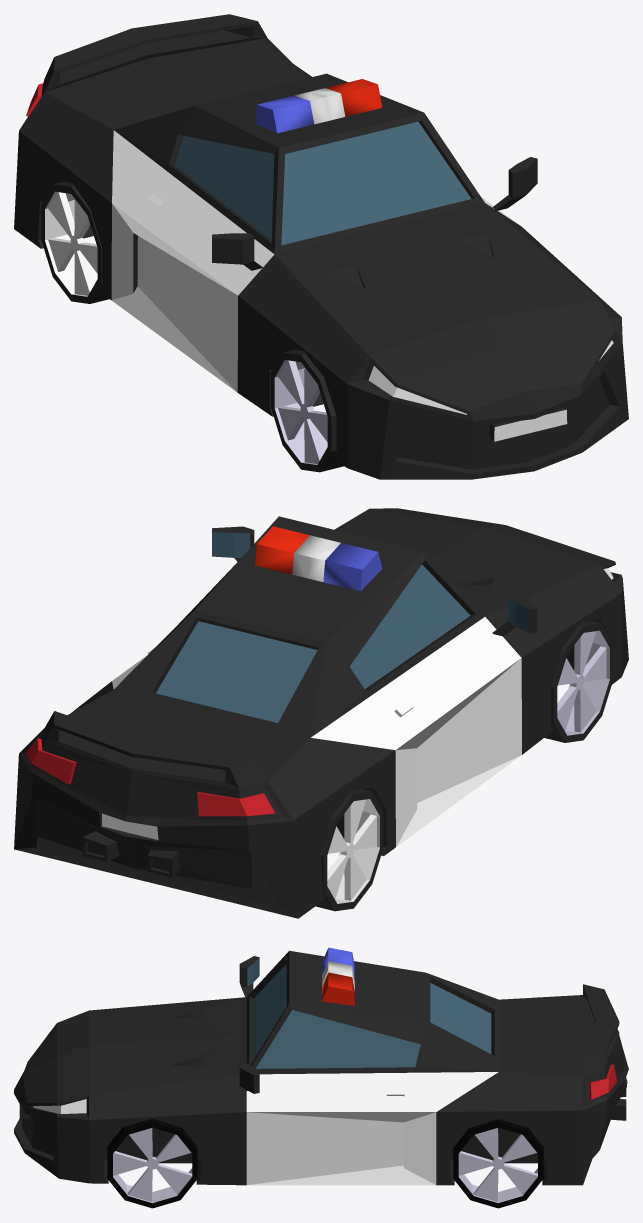
The model's file is Police_Light.fbx.
3 renders of one model, top to bottom at view 1: azimuth 30°, elevation 25°; view 2: azimuth 150°, elevation 25°; view 3: azimuth 270°, elevation 25°, orthographic. The views are drawn at different scales.
Visible parts, largest first — view 1: Police Sports, Police Sports wheel front right, Police Sports wheel rear right, Police Sports_Blue_Light, Police Sports_Red_Light; view 2: Police Sports, Police Sports wheel front right, Police Sports wheel rear right, Police Sports_Blue_Light, Police Sports_Red_Light; view 3: Police Sports, Police Sports wheel front left, Police Sports wheel rear left, Police Sports_Red_Light, Police Sports_Blue_Light.
Boxes of the visible parts, left/top/right/bottom form: Police Sports: left=14, top=14, right=628, bottom=479; Police Sports wheel front right: left=271, top=349, right=343, bottom=472; Police Sports wheel rear right: left=41, top=181, right=109, bottom=303; Police Sports_Blue_Light: left=255, top=95, right=314, bottom=133; Police Sports_Red_Light: left=326, top=79, right=382, bottom=116; Police Sports: left=14, top=508, right=628, bottom=918; Police Sports wheel front right: left=544, top=620, right=613, bottom=742; Police Sports wheel rear right: left=315, top=789, right=383, bottom=911; Police Sports_Blue_Light: left=323, top=543, right=382, bottom=591; Police Sports_Red_Light: left=255, top=526, right=309, bottom=574; Police Sports: left=14, top=950, right=628, bottom=1185; Police Sports wheel front left: left=107, top=1119, right=197, bottom=1208; Police Sports wheel rear left: left=453, top=1119, right=543, bottom=1208; Police Sports_Red_Light: left=322, top=972, right=354, bottom=1005; Police Sports_Blue_Light: left=322, top=947, right=354, bottom=979.
Size of the model in its own units: 263 by 195 by 573.
6 materials, 1 textured.
